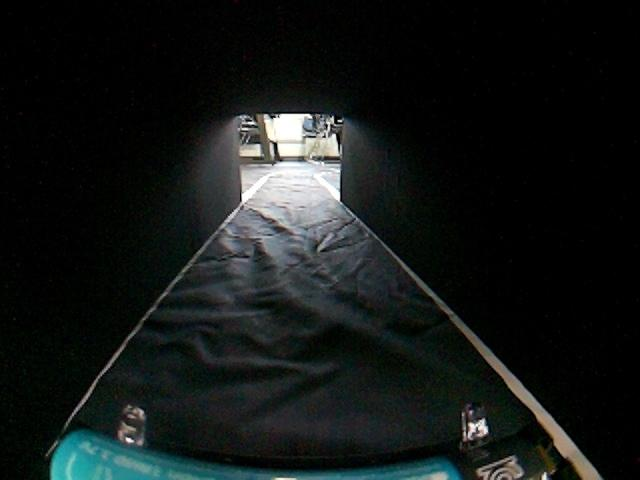straight: (6, 140, 640, 480)
